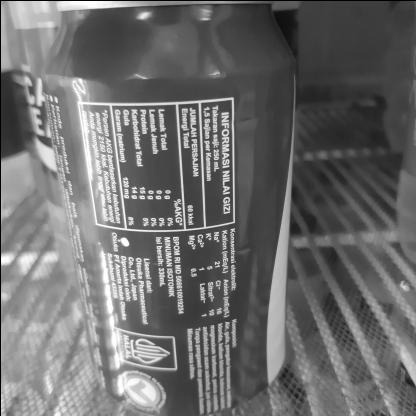alumunium_can: (13, 0, 315, 412)
